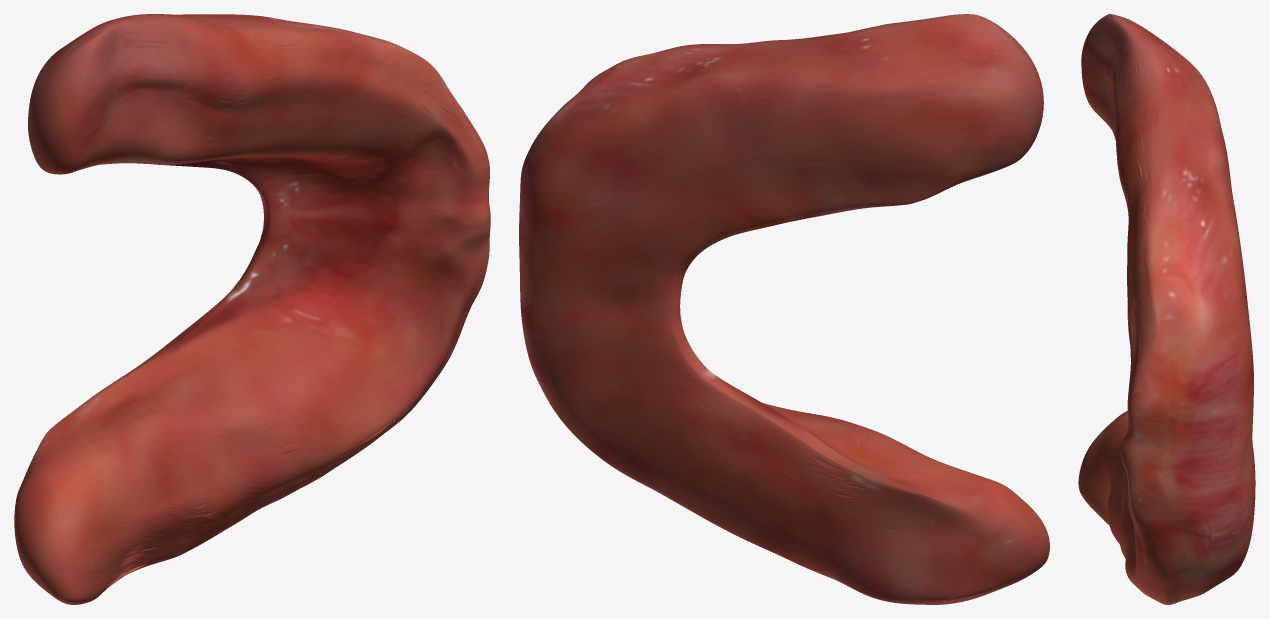
The model's file is MdBone_7780.OBJ.
3 renders of one model, left to right at view 1: azimuth 30°, elevation 25°; view 2: azimuth 150°, elevation 25°; view 3: azimuth 270°, elevation 25°, orthographic. The views are drawn at different scales.
Visible parts, largest first — view 1: Group14746; view 2: Group14746; view 3: Group14746.
Boxes of the visible parts, x1,y1,x2,y2 form: Group14746: [14, 14, 490, 604]; Group14746: [519, 14, 1049, 604]; Group14746: [1078, 14, 1255, 604].
Bounding box in the file's own units: 53.1 × 60.46 × 18.66.
1 material, 1 textured.
